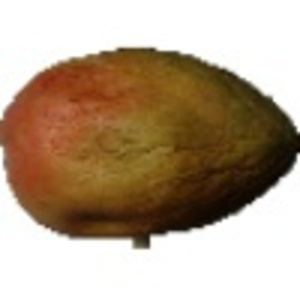mamão: (6, 42, 297, 238)
